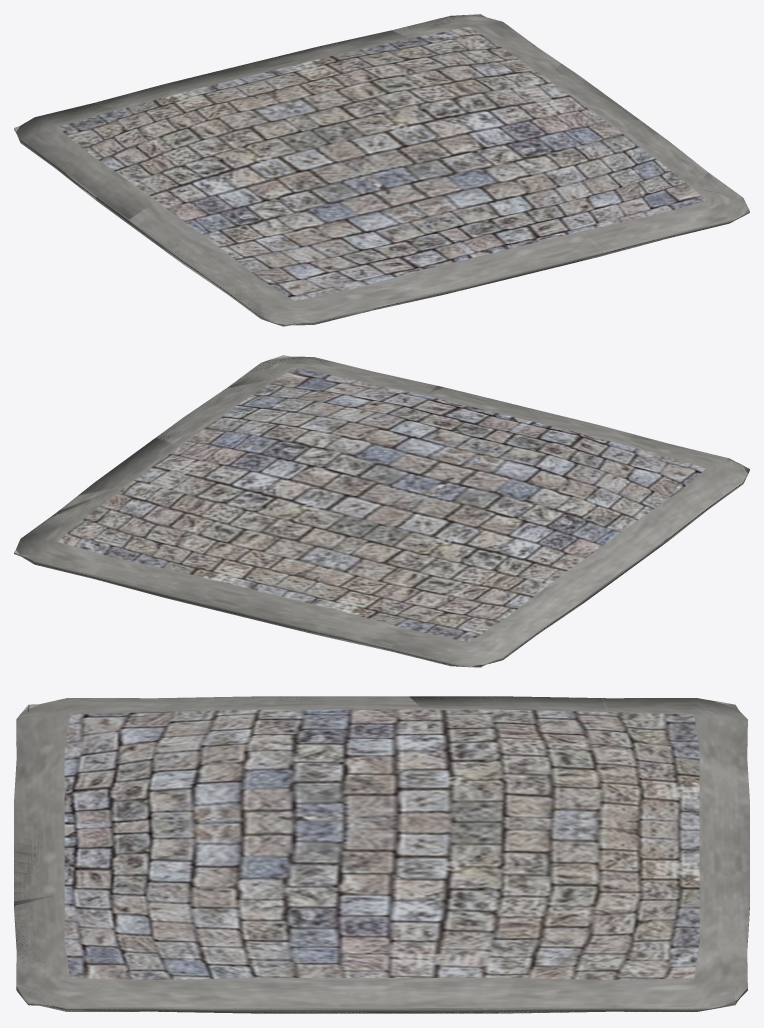
The model's file is plate02_30.fbx.
The picture shows the model from 3 angles, top to bottom: view 1: azimuth 30°, elevation 25°; view 2: azimuth 150°, elevation 25°; view 3: azimuth 270°, elevation 25°; orthographic projection. The views are drawn at different scales.
Visible parts, largest first — view 1: Cube, Cube_cell.016, Cube_cell.018, Cube_cell.007, Cube_cell.025, Cube_cell.011, Cube_cell.004, Cube_cell.012, Cube_cell.008, Cube_cell.019, Cube_cell.027, Cube_cell.013 (+2 smaller); view 2: Cube, Cube_cell.016, Cube_cell.018, Cube_cell.007, Cube_cell.004, Cube_cell.025, Cube_cell.011, Cube_cell.019, Cube_cell.008, Cube_cell.012, Cube_cell.027, Cube_cell.017; view 3: Cube, Cube_cell.016, Cube_cell.018, Cube_cell.025, Cube_cell.007, Cube_cell.004, Cube_cell.008, Cube_cell.019, Cube_cell.027, Cube_cell.011, Cube_cell.012, Cube_cell.017 (+3 smaller).
Boxes of the visible parts, x1=… form: Cube: x1=59, y1=14, x2=749, y2=326; Cube_cell.016: x1=103, y1=108, x2=313, y2=177; Cube_cell.018: x1=309, y1=90, x2=515, y2=184; Cube_cell.007: x1=56, y1=15, x2=749, y2=326; Cube_cell.025: x1=357, y1=58, x2=540, y2=120; Cube_cell.011: x1=57, y1=146, x2=227, y2=219; Cube_cell.004: x1=204, y1=45, x2=360, y2=111; Cube_cell.012: x1=14, y1=103, x2=126, y2=168; Cube_cell.008: x1=323, y1=30, x2=481, y2=85; Cube_cell.019: x1=95, y1=74, x2=283, y2=114; Cube_cell.027: x1=519, y1=59, x2=640, y2=120; Cube_cell.013: x1=130, y1=177, x2=255, y2=259; Cube: x1=19, y1=355, x2=748, y2=667; Cube_cell.016: x1=322, y1=522, x2=496, y2=620; Cube_cell.018: x1=237, y1=457, x2=420, y2=549; Cube_cell.007: x1=14, y1=356, x2=749, y2=667; Cube_cell.004: x1=161, y1=543, x2=326, y2=620; Cube_cell.025: x1=99, y1=464, x2=253, y2=543; Cube_cell.011: x1=488, y1=547, x2=613, y2=632; Cube_cell.019: x1=280, y1=561, x2=410, y2=650; Cube_cell.008: x1=83, y1=517, x2=242, y2=591; Cube_cell.012: x1=391, y1=614, x2=538, y2=667; Cube_cell.027: x1=78, y1=438, x2=214, y2=505; Cube_cell.017: x1=14, y1=507, x2=120, y2=555; Cube: x1=14, y1=696, x2=749, y2=1013; Cube_cell.016: x1=403, y1=722, x2=676, y2=834; Cube_cell.018: x1=261, y1=803, x2=582, y2=929; Cube_cell.025: x1=391, y1=873, x2=591, y2=979; Cube_cell.007: x1=14, y1=699, x2=749, y2=1013; Cube_cell.004: x1=555, y1=822, x2=749, y2=903; Cube_cell.008: x1=591, y1=877, x2=749, y2=959; Cube_cell.019: x1=583, y1=754, x2=749, y2=826; Cube_cell.027: x1=340, y1=945, x2=570, y2=1007; Cube_cell.011: x1=409, y1=696, x2=608, y2=753; Cube_cell.012: x1=603, y1=698, x2=747, y2=757; Cube_cell.017: x1=576, y1=959, x2=737, y2=1011.
Size of the model in its own units: 401 by 20.47 by 402.
